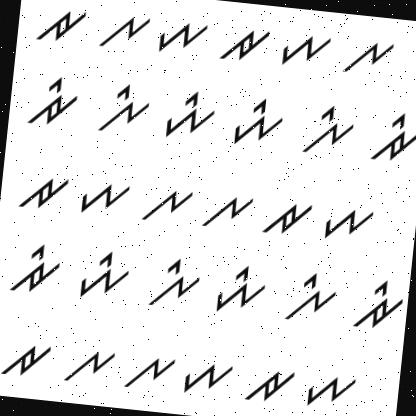la: (62, 333, 119, 389), (198, 181, 257, 234), (338, 31, 398, 79), (94, 5, 152, 53), (140, 178, 196, 226), (122, 349, 176, 396)
li: (280, 264, 342, 328), (300, 98, 361, 160), (94, 76, 152, 136), (146, 252, 203, 311)
ra: (11, 168, 72, 218), (29, 2, 88, 53), (241, 359, 296, 412), (0, 332, 57, 383), (262, 195, 316, 243), (215, 21, 272, 66)
ri: (5, 236, 66, 298), (24, 69, 84, 131), (348, 272, 406, 336), (366, 103, 416, 166)
ya: (314, 196, 376, 249), (302, 365, 362, 411), (152, 11, 210, 57), (181, 351, 236, 399), (75, 172, 132, 217), (276, 27, 332, 70)
yi: (72, 244, 135, 306), (225, 90, 288, 151), (158, 82, 219, 141), (211, 259, 270, 317)
